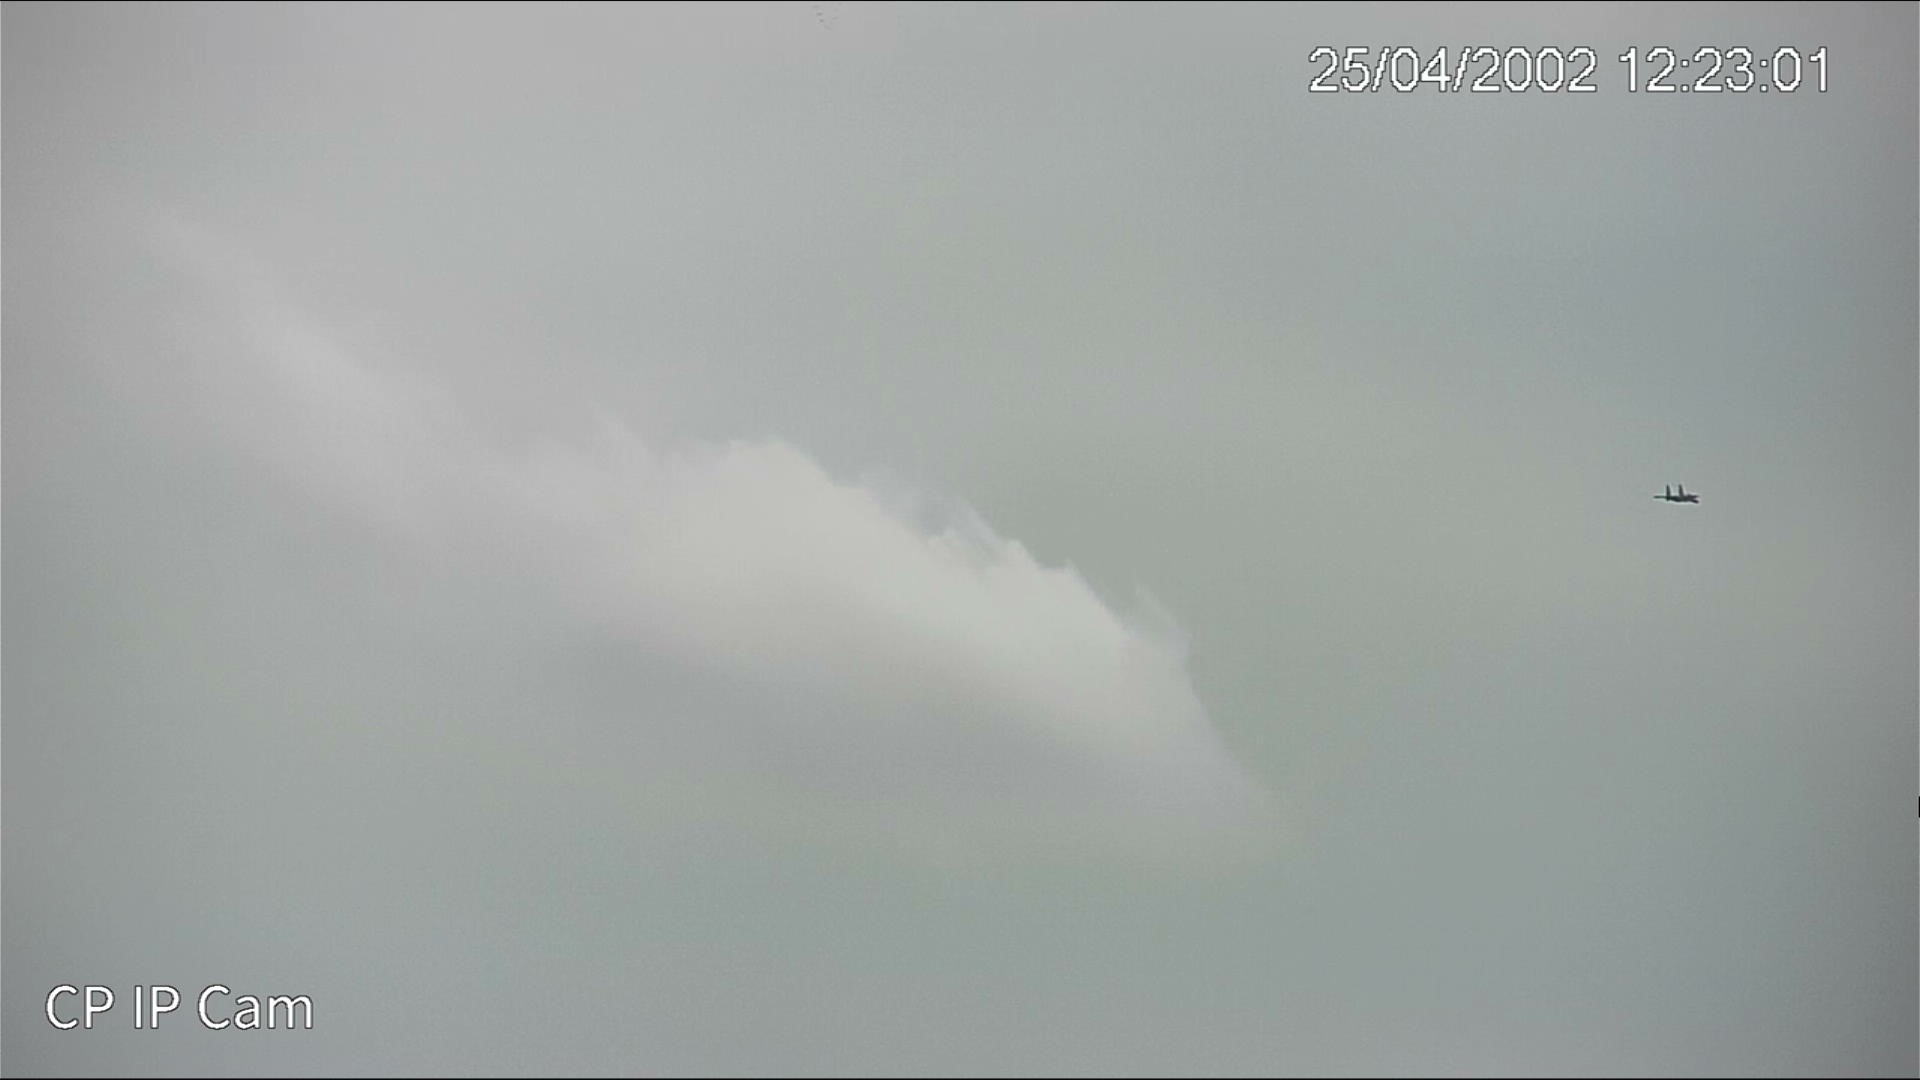SU_30: (1658, 483, 1702, 502)
